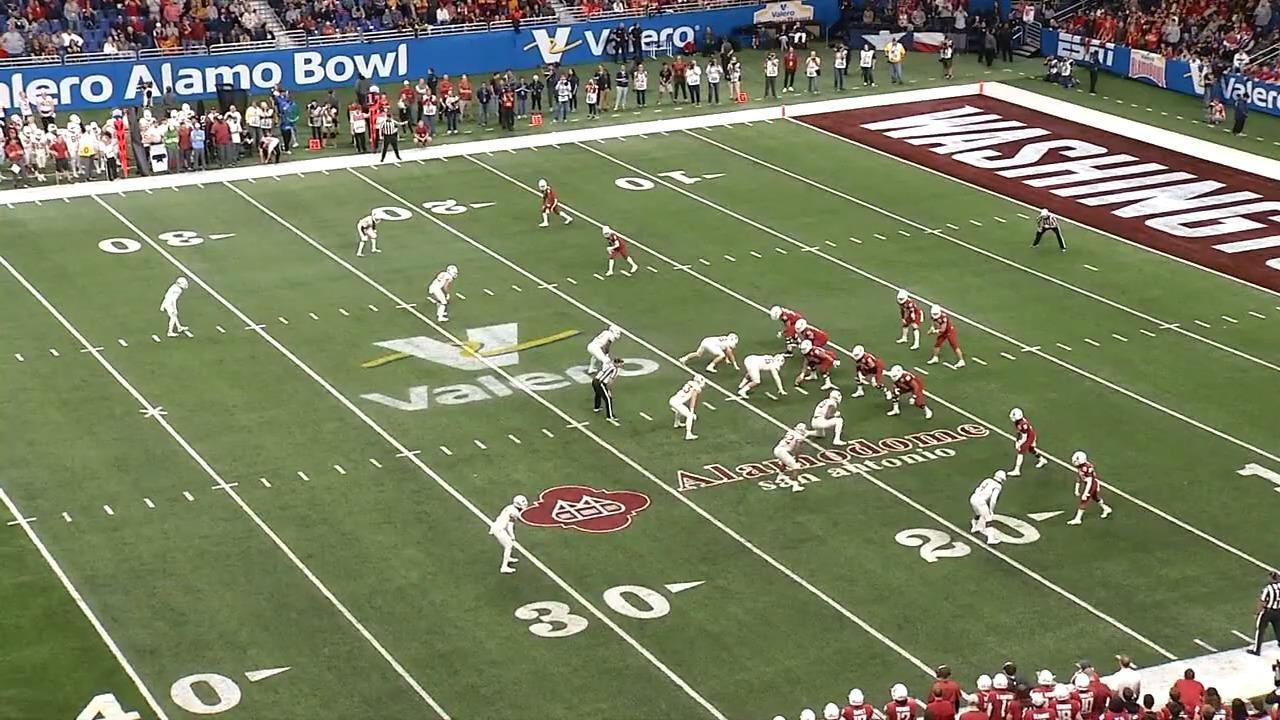player: (489, 489, 530, 577), (1069, 450, 1111, 529), (1010, 404, 1052, 474), (970, 468, 1010, 538), (884, 365, 930, 422), (671, 375, 709, 443), (680, 333, 740, 376), (586, 322, 624, 388), (740, 352, 789, 401), (774, 422, 806, 497), (851, 345, 892, 403), (930, 304, 967, 368), (809, 385, 849, 444), (160, 275, 195, 342), (602, 224, 641, 279), (796, 340, 837, 391), (537, 177, 575, 231), (429, 263, 461, 325), (898, 291, 927, 352), (769, 304, 801, 356), (353, 210, 382, 261), (794, 319, 831, 349)
ref: (1250, 569, 1280, 656), (590, 351, 623, 424), (1028, 206, 1066, 258), (375, 110, 401, 165)
